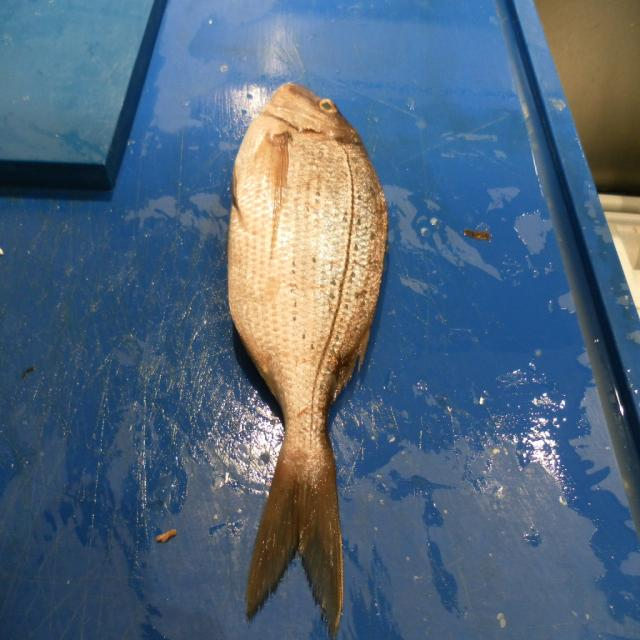Red-Sea-Bream-mercan-: (227, 84, 389, 640)
